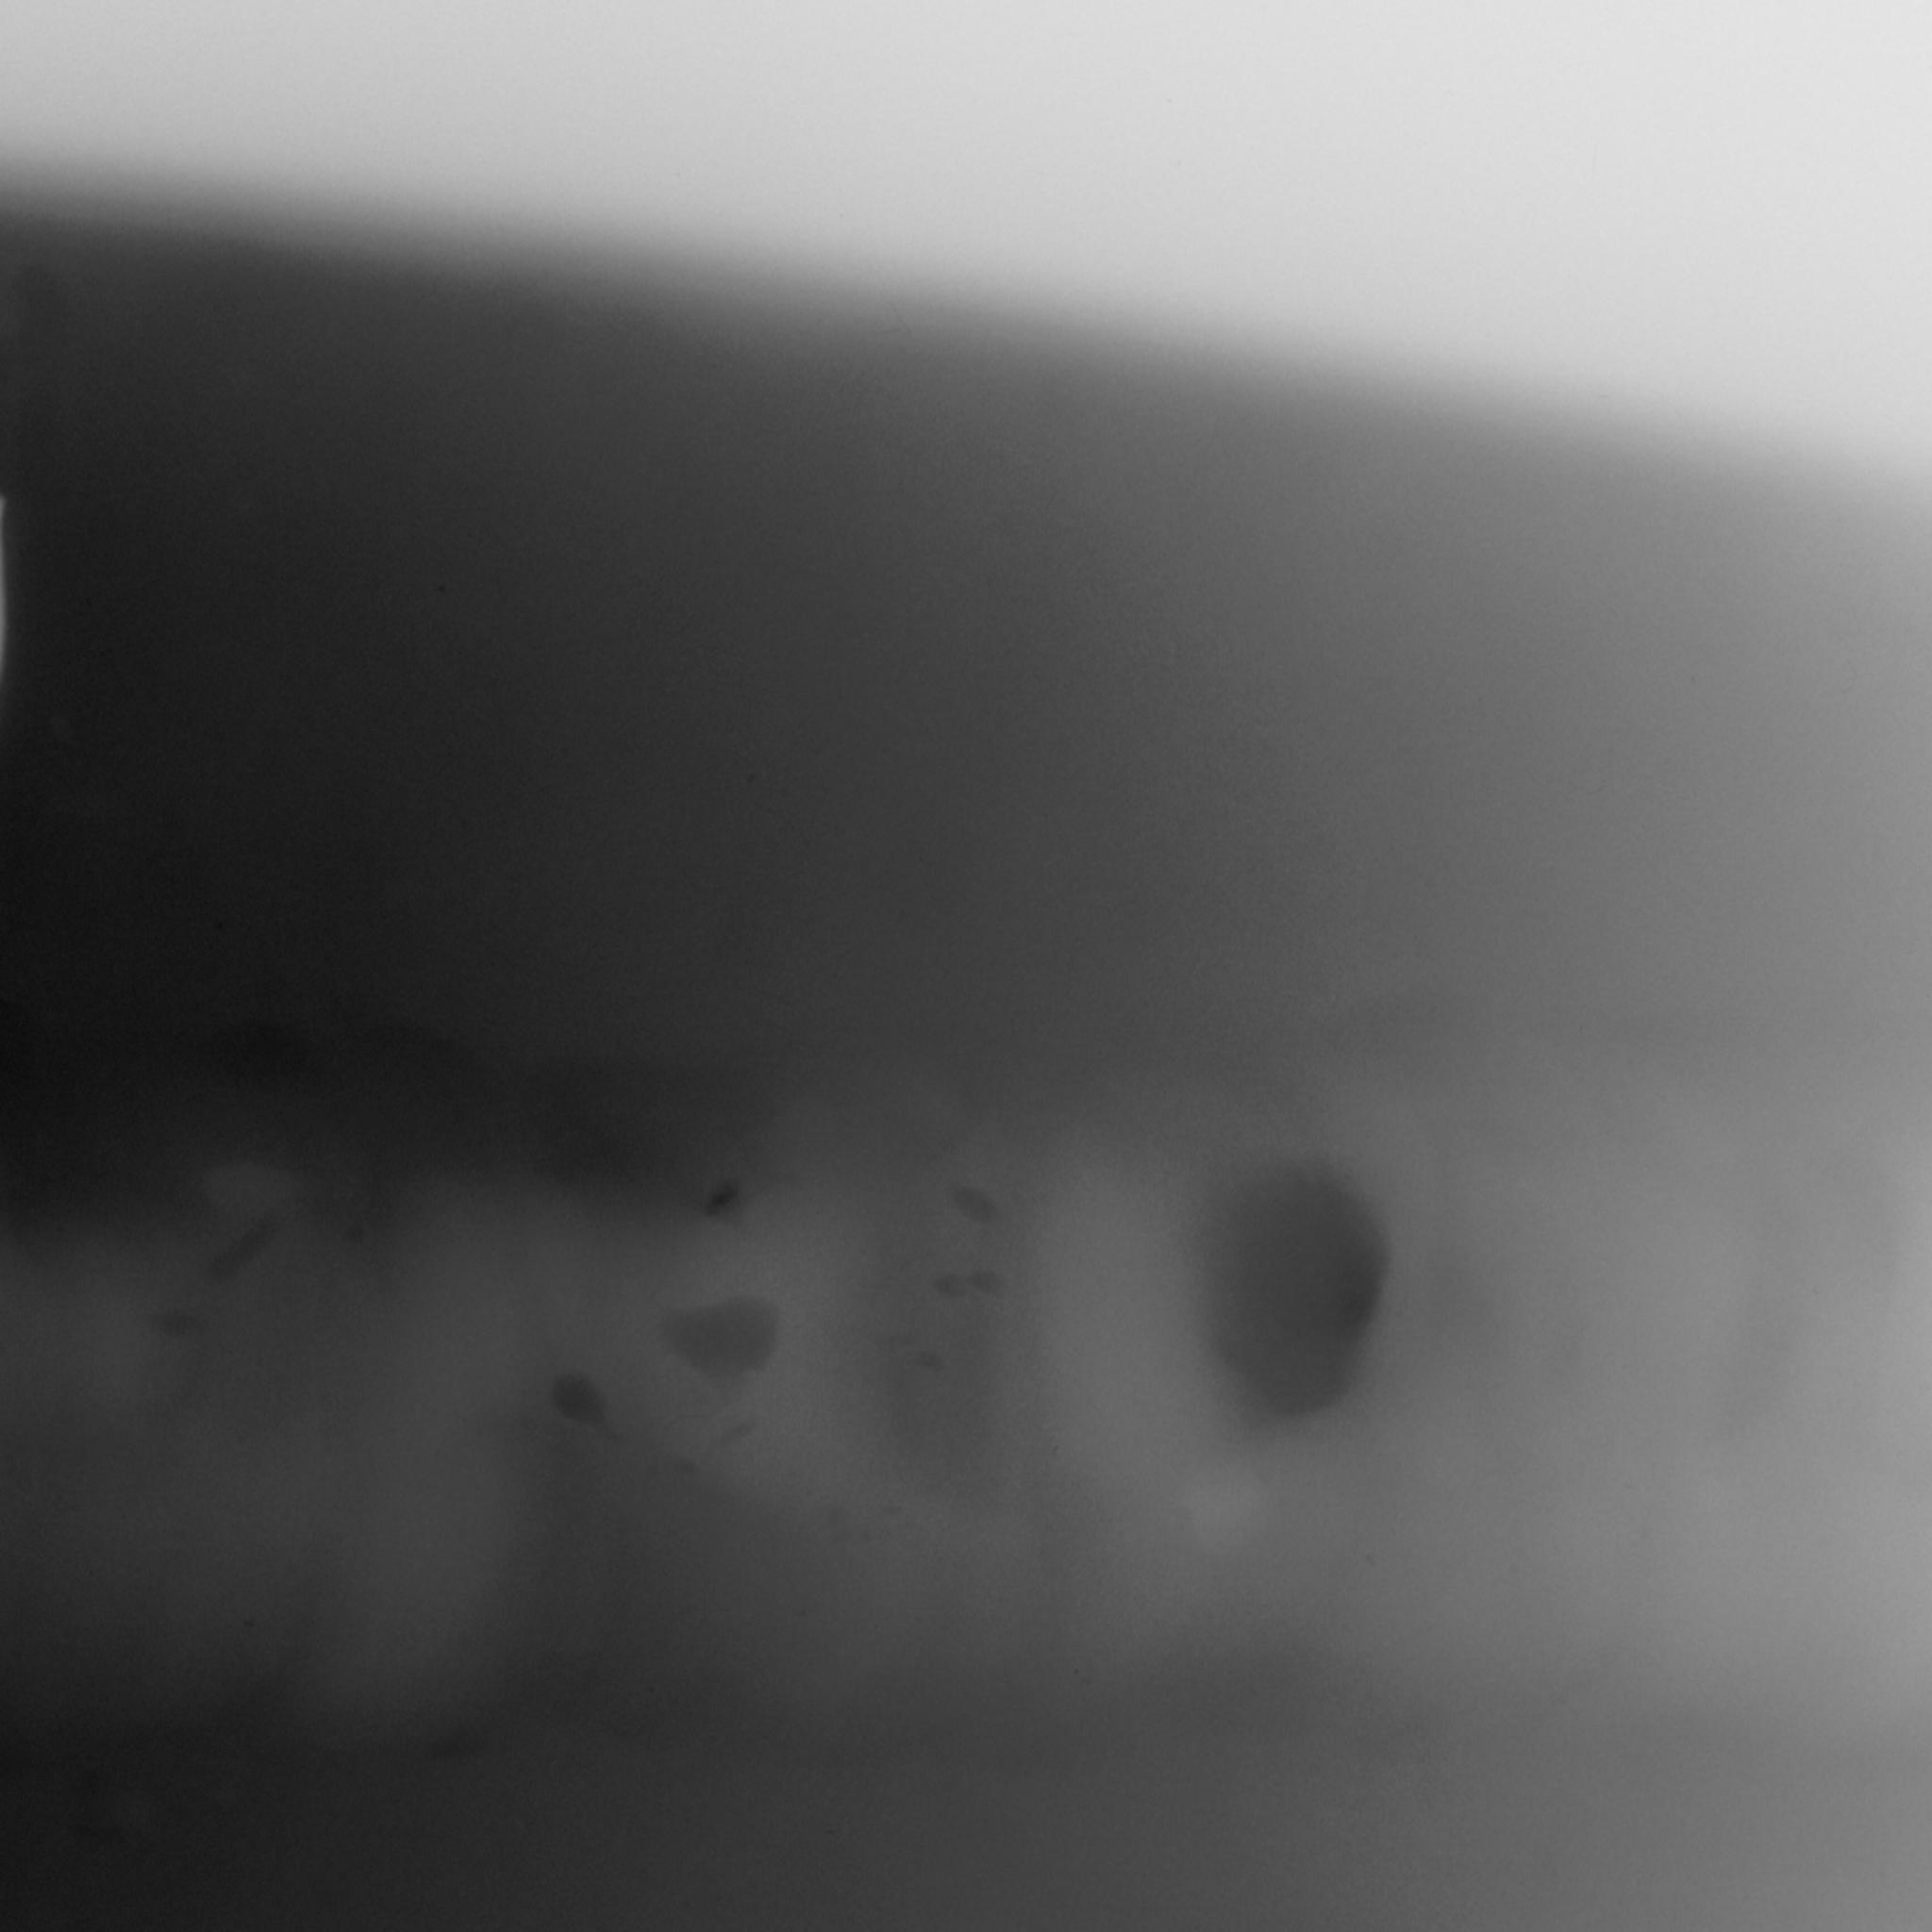Solda Ruim: (0, 970, 1932, 1882)
